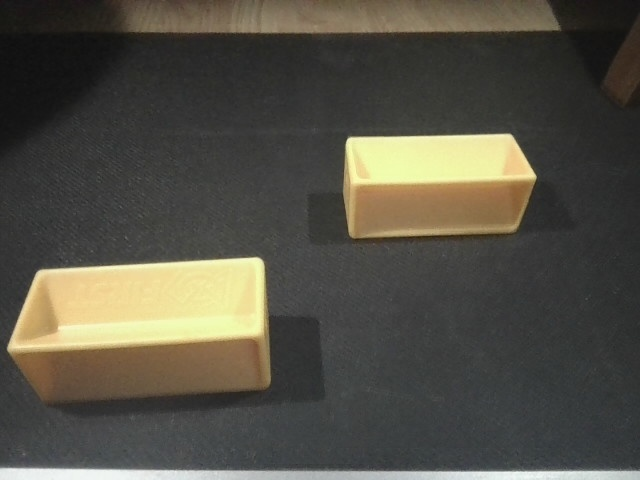YellowSample: (6, 255, 278, 404), (340, 131, 539, 240)
